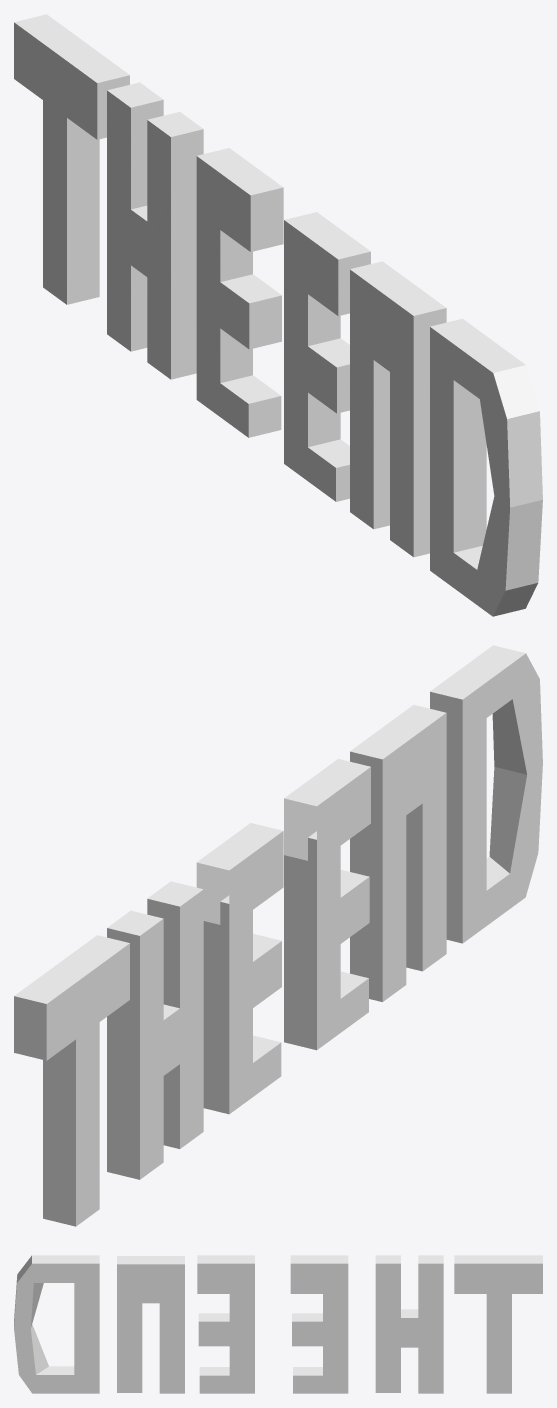
The model's file is The_End.obj.
3 renders of one model, top to bottom at view 1: azimuth 30°, elevation 25°; view 2: azimuth 150°, elevation 25°; view 3: azimuth 270°, elevation 25°, orthographic. The views are drawn at different scales.
Parts seen in each view (by area): view 1: Cube; view 2: Cube; view 3: Cube.
Part boxes in pixels (x1,y1,x2,y2): Cube: [14, 14, 542, 616]; Cube: [14, 645, 542, 1226]; Cube: [14, 1255, 542, 1393].
Size of the model in its own units: 0.4225 by 3 by 11.06.
Materials: 1 (1 with a texture image).
